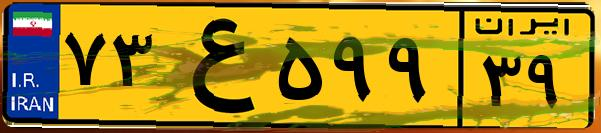3: (475, 38, 525, 113), (110, 28, 158, 98)
5: (270, 28, 330, 110)
7: (57, 26, 110, 100)
9: (385, 28, 445, 110), (330, 28, 385, 110), (525, 38, 570, 115)
ع: (158, 12, 270, 120)
